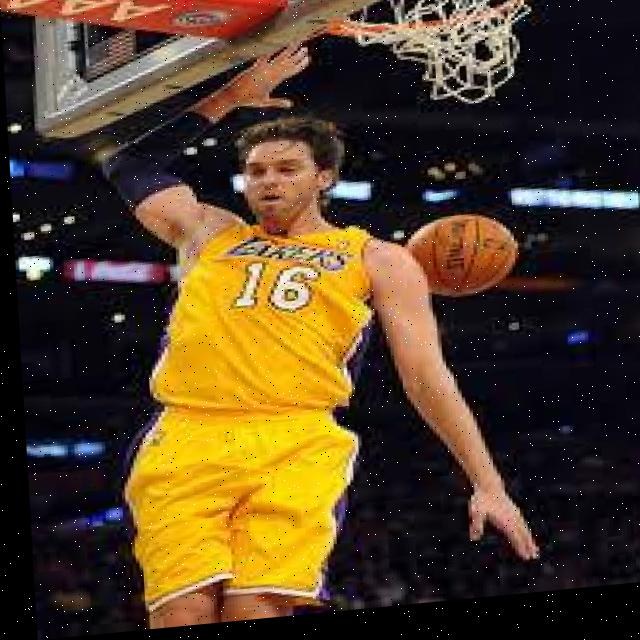basketball: (410, 210, 520, 299)
hoop: (327, 0, 536, 117)
